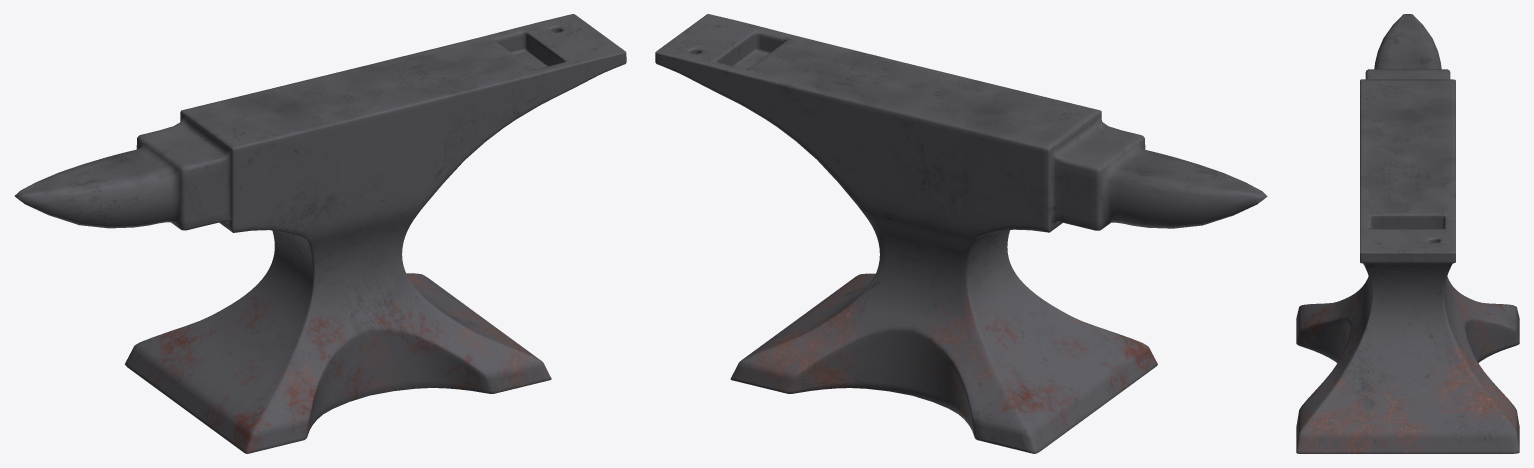
File: 845828old_anvil(2).fbx
3 renders of one model, left to right at view 1: azimuth 30°, elevation 25°; view 2: azimuth 150°, elevation 25°; view 3: azimuth 270°, elevation 25°, orthographic. The views are drawn at different scales.
Parts seen in each view (by area): view 1: nakovalnia; view 2: nakovalnia; view 3: nakovalnia.
Boxes of the visible parts, x1=… form: nakovalnia: x1=14, y1=14, x2=626, y2=453; nakovalnia: x1=655, y1=14, x2=1267, y2=453; nakovalnia: x1=1296, y1=14, x2=1519, y2=453.
Bounding box in the file's own units: 708 × 319 × 259.
1 material, 1 textured.
